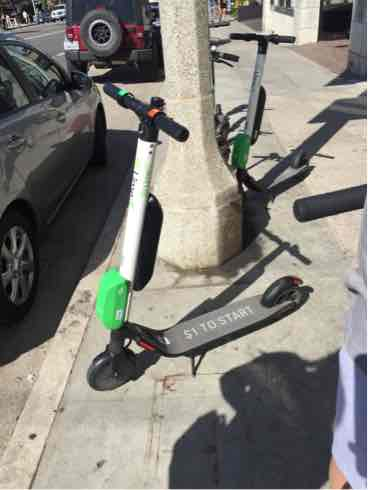scooter: (73, 78, 311, 396), (218, 28, 306, 213)
